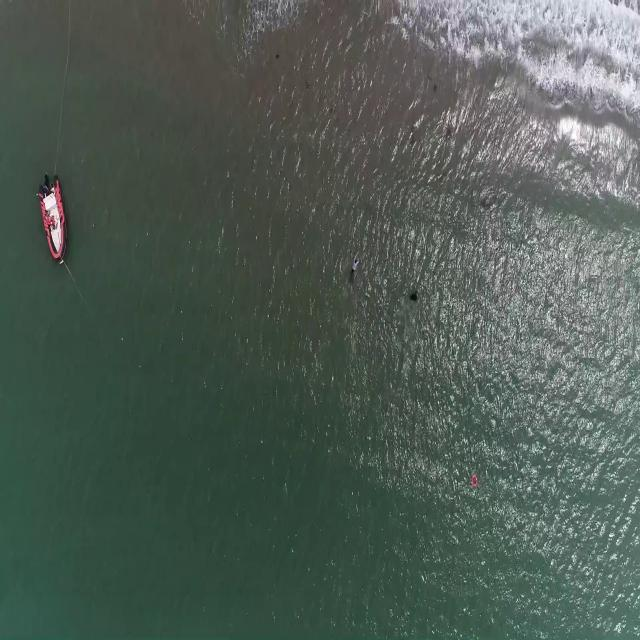boat: (36, 175, 66, 263)
life_buoy: (470, 474, 479, 488)
person: (349, 249, 362, 285), (410, 286, 419, 305)
